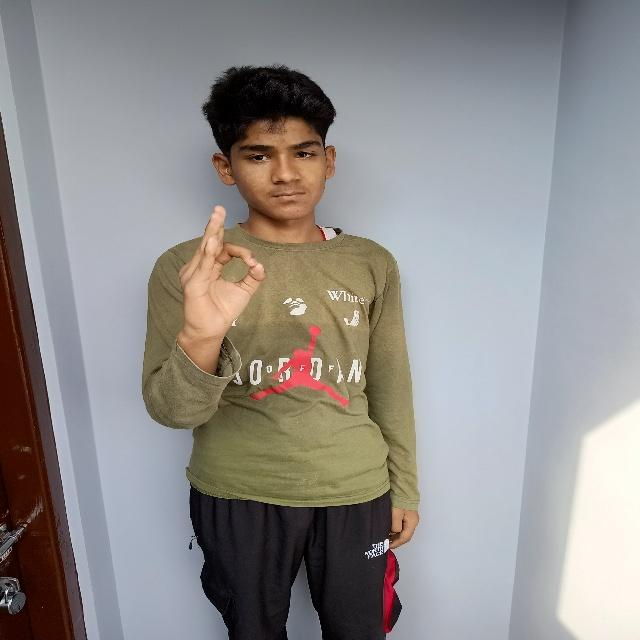Okay: (176, 197, 273, 350)
